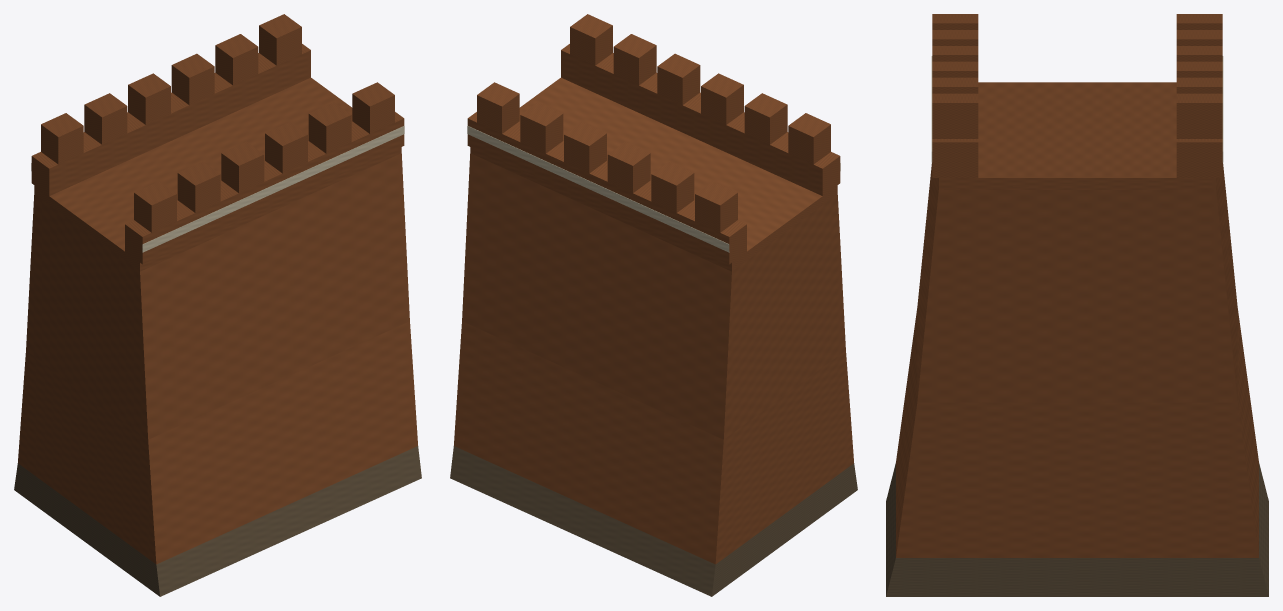
File: Berber_Wall_Age2_slope_up_6m.fbx
The picture shows the model from 3 angles, left to right: view 1: azimuth 30°, elevation 25°; view 2: azimuth 150°, elevation 25°; view 3: azimuth 270°, elevation 25°; orthographic projection. The views are drawn at different scales.
Parts seen in each view (by area): view 1: slope_up_6m_rammed_curtain_upper, slope_up_6m_rammed_curtain_lower, slope_up_6m_walk_deck, slope_up_6m_battered_stone_foot, slope_up_6m_parapet.001, slope_up_6m_parapet, slope_up_6m_owner_painted_band, slope_up_6m_merlon.004, slope_up_6m_merlon.007, slope_up_6m_merlon.009, slope_up_6m_merlon.002, slope_up_6m_merlon.010 (+7 smaller); view 2: slope_up_6m_rammed_curtain_upper, slope_up_6m_rammed_curtain_lower, slope_up_6m_walk_deck, slope_up_6m_battered_stone_foot, slope_up_6m_parapet, slope_up_6m_parapet.001, slope_up_6m_owner_painted_band.001, slope_up_6m_merlon.001, slope_up_6m_merlon.003, slope_up_6m_merlon.010, slope_up_6m_merlon.008, slope_up_6m_merlon.004 (+7 smaller); view 3: slope_up_6m_rammed_curtain_upper, slope_up_6m_rammed_curtain_lower, slope_up_6m_walk_deck, slope_up_6m_battered_stone_foot, slope_up_6m_merlon.005, slope_up_6m_merlon.011, slope_up_6m_parapet, slope_up_6m_parapet.001, slope_up_6m_merlon.003, slope_up_6m_merlon.004, slope_up_6m_merlon.009, slope_up_6m_merlon.010 (+6 smaller).
Boxes of the visible parts, <box> form: slope_up_6m_rammed_curtain_upper: <box>26,153,409,439</box>; slope_up_6m_rammed_curtain_lower: <box>18,321,417,564</box>; slope_up_6m_walk_deck: <box>34,77,401,271</box>; slope_up_6m_battered_stone_foot: <box>14,446,421,596</box>; slope_up_6m_parapet.001: <box>31,44,310,195</box>; slope_up_6m_parapet: <box>125,112,404,264</box>; slope_up_6m_owner_painted_band: <box>142,125,404,252</box>; slope_up_6m_merlon.004: <box>308,102,351,153</box>; slope_up_6m_merlon.007: <box>84,93,127,144</box>; slope_up_6m_merlon.009: <box>171,53,214,105</box>; slope_up_6m_merlon.002: <box>221,141,264,192</box>; slope_up_6m_merlon.010: <box>215,34,258,85</box>; slope_up_6m_rammed_curtain_upper: <box>462,153,845,439</box>; slope_up_6m_rammed_curtain_lower: <box>454,321,853,564</box>; slope_up_6m_walk_deck: <box>470,77,837,271</box>; slope_up_6m_battered_stone_foot: <box>450,446,857,596</box>; slope_up_6m_parapet: <box>561,44,840,195</box>; slope_up_6m_parapet.001: <box>467,112,746,264</box>; slope_up_6m_owner_painted_band.001: <box>467,125,729,252</box>; slope_up_6m_merlon.001: <box>744,93,787,144</box>; slope_up_6m_merlon.003: <box>657,53,700,105</box>; slope_up_6m_merlon.010: <box>520,102,563,153</box>; slope_up_6m_merlon.008: <box>607,141,650,192</box>; slope_up_6m_merlon.004: <box>613,34,656,85</box>; slope_up_6m_rammed_curtain_upper: <box>917,163,1237,402</box>; slope_up_6m_rammed_curtain_lower: <box>896,308,1258,557</box>; slope_up_6m_walk_deck: <box>939,82,1215,189</box>; slope_up_6m_battered_stone_foot: <box>886,463,1268,596</box>; slope_up_6m_merlon.005: <box>932,93,978,138</box>; slope_up_6m_merlon.011: <box>1176,93,1222,138</box>; slope_up_6m_parapet: <box>932,139,978,177</box>; slope_up_6m_parapet.001: <box>1176,139,1222,177</box>; slope_up_6m_merlon.003: <box>932,61,978,77</box>; slope_up_6m_merlon.004: <box>932,77,978,93</box>; slope_up_6m_merlon.009: <box>1176,61,1222,77</box>; slope_up_6m_merlon.010: <box>1176,77,1222,93</box>.
Bounding box in the file's own units: 600 × 936 × 580.
3 materials, 3 textured.
